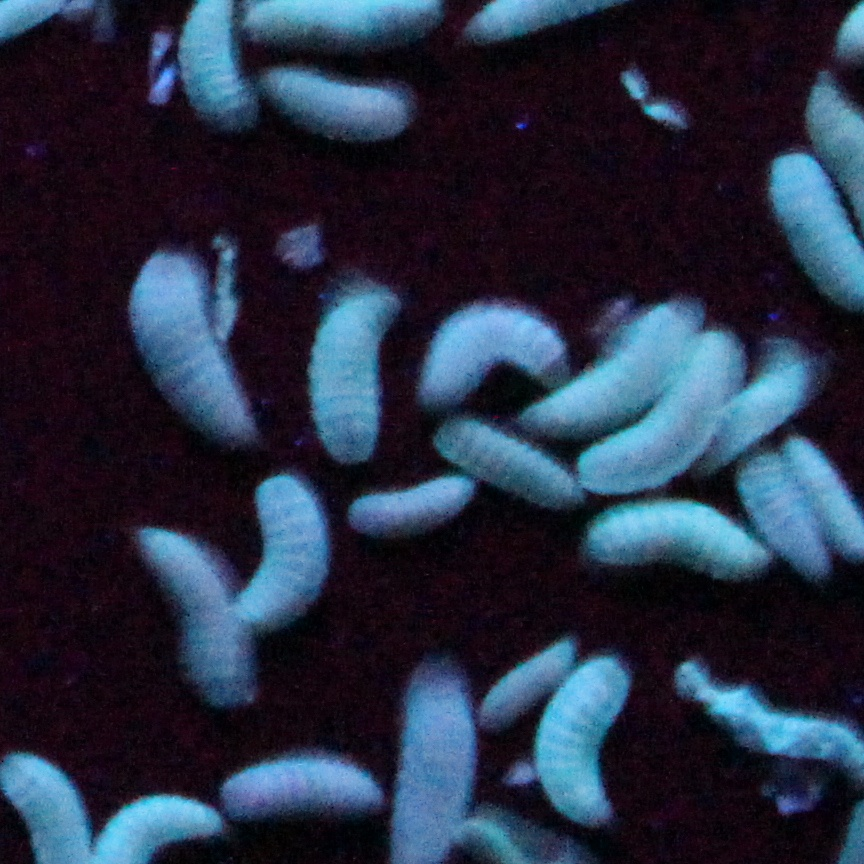larve: (581, 346, 745, 488), (139, 257, 255, 444), (144, 528, 250, 708), (304, 288, 394, 467), (535, 319, 683, 423), (241, 477, 323, 639), (422, 305, 557, 403), (545, 670, 625, 827), (439, 424, 576, 511), (592, 507, 752, 576), (741, 457, 825, 582), (219, 758, 378, 821), (264, 72, 409, 139), (483, 643, 571, 720), (348, 475, 470, 527)
